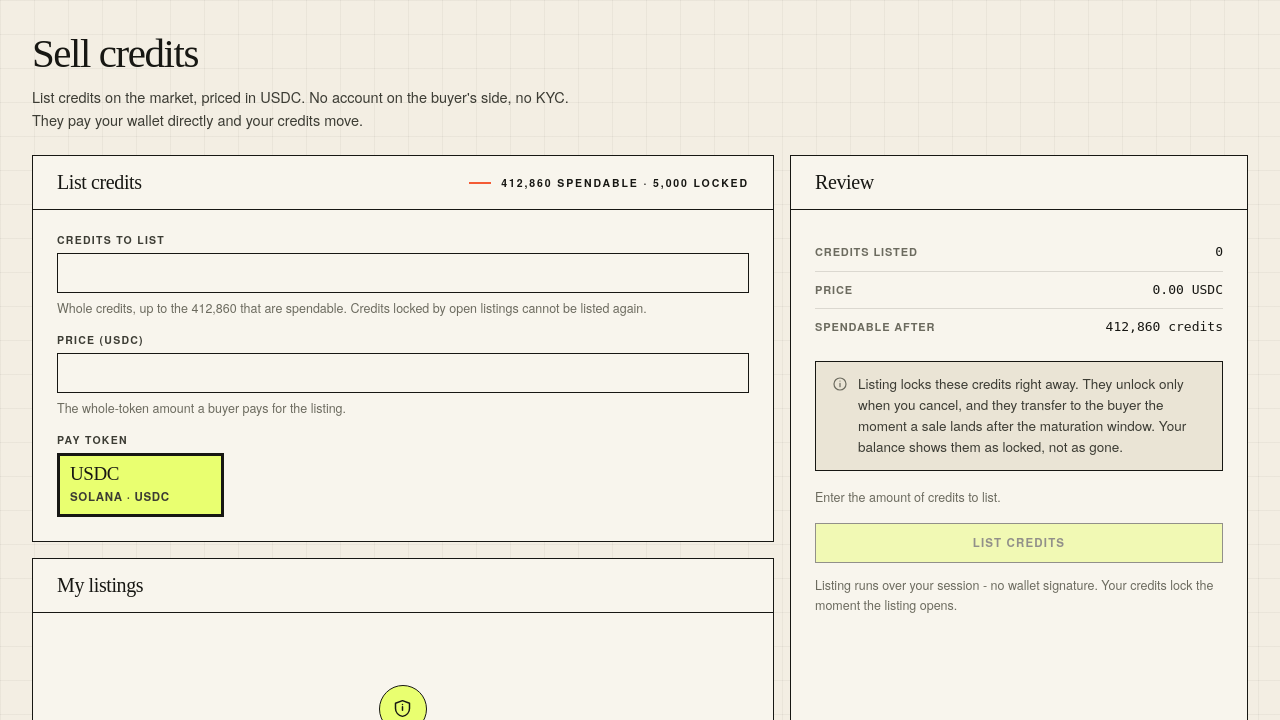
Test: SellComponent › the initiating buttons disable with a pending indicator while a prompt is open
This screenshot has width=1280, height=720.
Type "100" into the number field with id "sellCredits" at x=403, y=273, box 57,253 -> 749,293
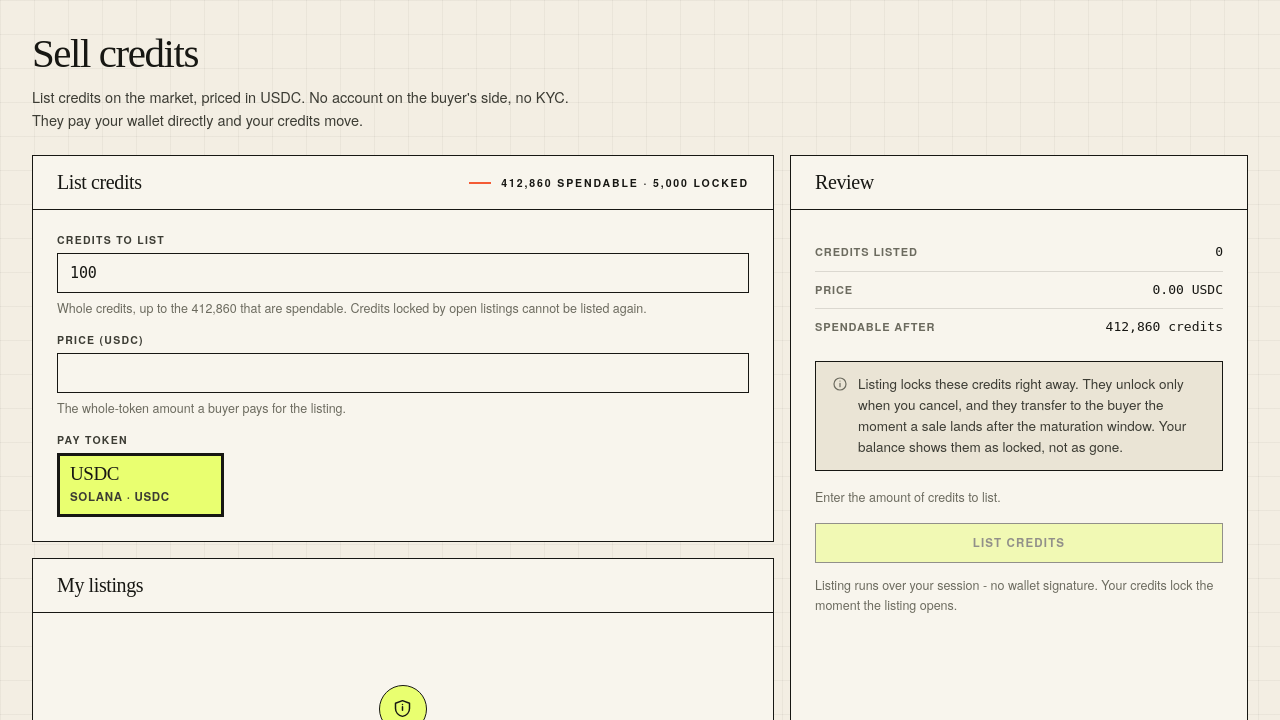
Type "100" into the number field with id "sellPrice" at x=403, y=373, box 57,353 -> 749,393
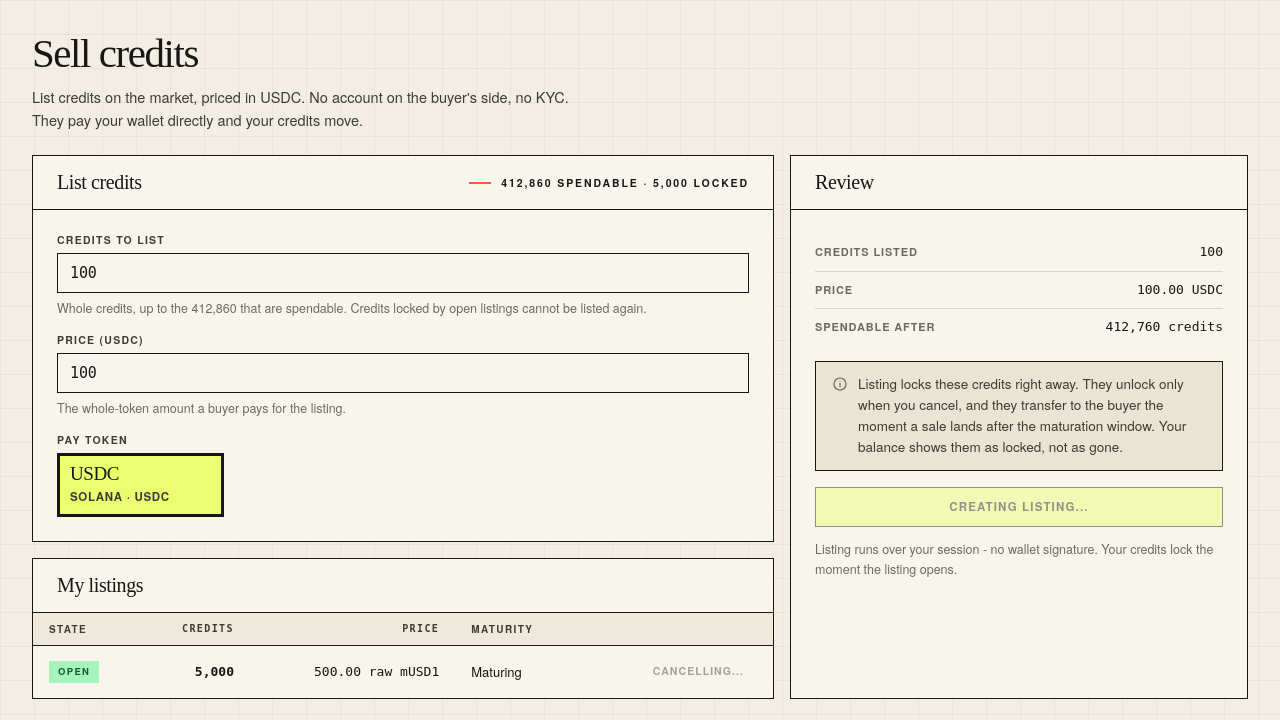
Expected: the button "Creating listing..." is shown, 815,487 -> 1223,527
Now the button "Cancelling..." is disabled, box 640,657 -> 757,687
